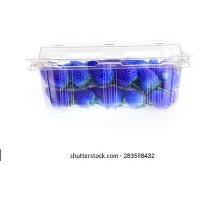plastic_box: (18, 30, 198, 117)
